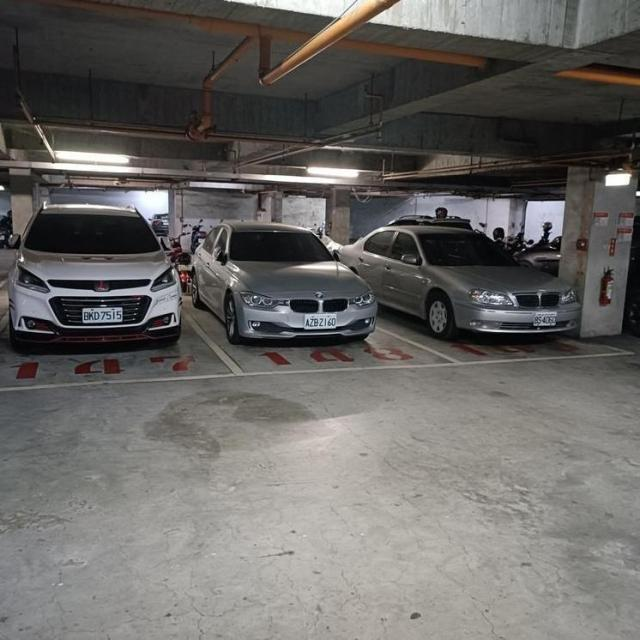W: (79, 303, 124, 324), (301, 310, 336, 329), (530, 307, 559, 329)
